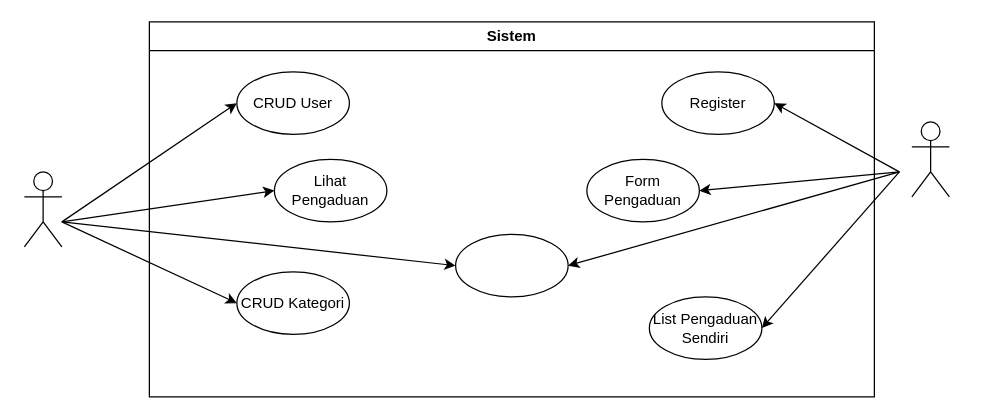
This 984x419 diagram has some shape labels left out. The shapes that lost their labels are listed below. From the top down, each one's box as (x1, y1, x2, y2) in pixels, then its label:
(911, 121, 949, 197): Customer
(23, 171, 62, 247): Admin
(454, 233, 568, 297): Login
